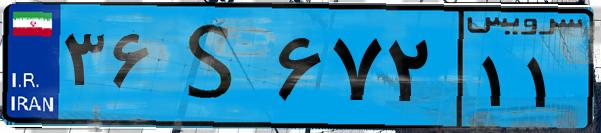1: (475, 38, 525, 113), (525, 38, 570, 115)
2: (385, 28, 445, 110)
3: (57, 26, 110, 100)
6: (270, 28, 330, 110), (110, 28, 158, 98)
7: (330, 28, 385, 110)
S: (158, 12, 270, 120)
